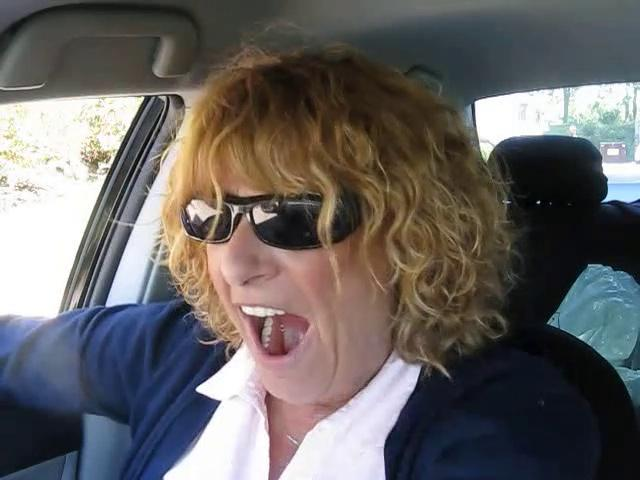yawn: (225, 293, 330, 375)
